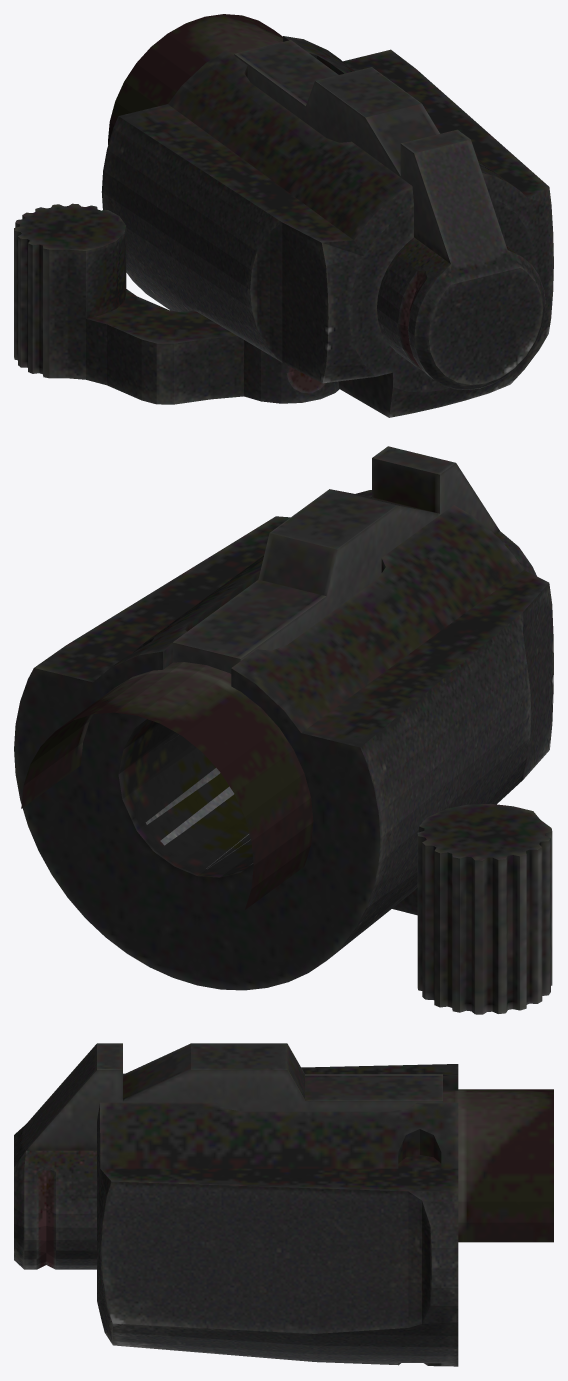
3 renders of one model, top to bottom at view 1: azimuth 30°, elevation 25°; view 2: azimuth 150°, elevation 25°; view 3: azimuth 270°, elevation 25°, orthographic. The views are drawn at different scales.
Visible parts, largest first — view 1: TW_5df24cf80dee1b22f862e9bc_PZ_Import; view 2: TW_5df24cf80dee1b22f862e9bc_PZ_Import; view 3: TW_5df24cf80dee1b22f862e9bc_PZ_Import.
Part boxes in pixels (<box>): TW_5df24cf80dee1b22f862e9bc_PZ_Import: <box>14,14,553,417</box>; TW_5df24cf80dee1b22f862e9bc_PZ_Import: <box>14,446,553,1014</box>; TW_5df24cf80dee1b22f862e9bc_PZ_Import: <box>14,1043,553,1366</box>.
Size of the model in its own units: 0.0199 by 0.0233 by 0.014.
1 material, 1 textured.
